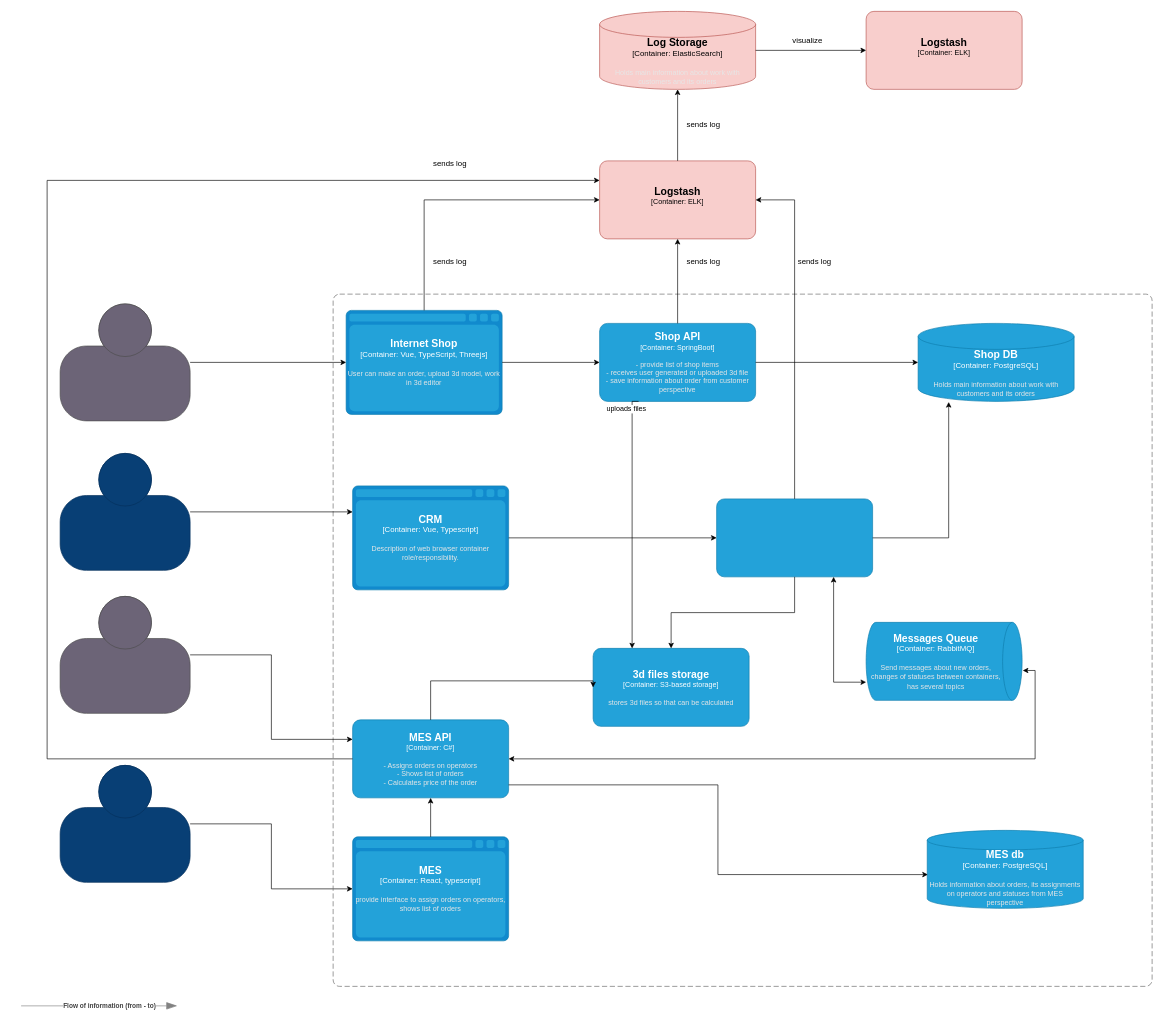
Some shapes in this 1164 by 1028 pixel diagram are drawn without their labels. Each missing label, with the box of its shape:
API user [Person] Description of external person.: (59, 596, 190, 713)
CRM API [Container: SpringBoot] Description of container role/responsibility.: (716, 498, 873, 577)
Customer [Person] Description of external person.: (59, 303, 190, 421)
Jewerly Store System [Software System]: (332, 293, 1152, 986)
Operator [Person] Takes order in work, manufactures jewerly: (59, 765, 190, 882)
Seller [Person] Operates with order, confirms manufacturing for the user: (59, 453, 190, 570)
